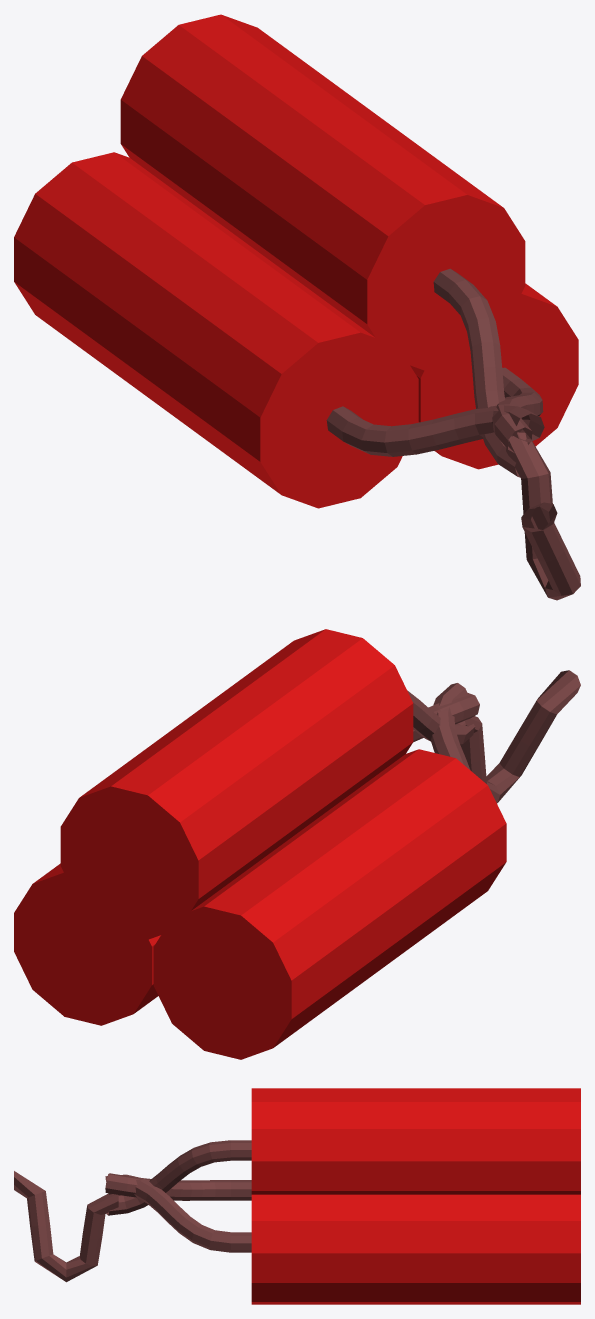
Rendered from Dynamite.gltf.
3 renders of one model, top to bottom at view 1: azimuth 30°, elevation 25°; view 2: azimuth 150°, elevation 25°; view 3: azimuth 270°, elevation 25°, orthographic. The views are drawn at different scales.
Parts seen in each view (by area): view 1: tube (×3), segment (×4); view 2: tube (×3), segment (×4); view 3: tube (×2), segment (×4).
Boxes of the visible parts, x1=… form: tube (×3): x1=14, y1=14, x2=578, y2=508; segment (×4): x1=326, y1=268, x2=580, y2=600; tube (×3): x1=14, y1=629, x2=506, y2=1059; segment (×4): x1=407, y1=670, x2=580, y2=803; tube (×2): x1=251, y1=1088, x2=580, y2=1304; segment (×4): x1=14, y1=1140, x2=251, y2=1282.
Size of the model in its own units: 0.3728 by 0.327 by 0.8608.
3 materials, 3 textured.
